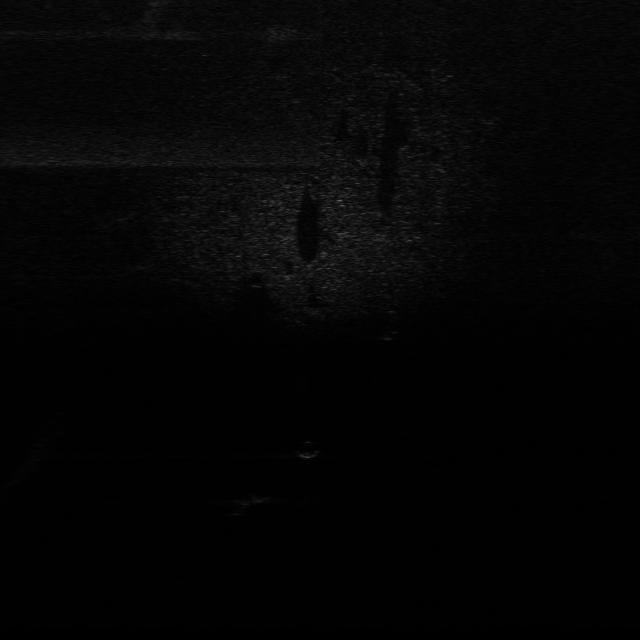ball: (286, 437, 324, 462)
square cage: (227, 486, 277, 513)
tyre: (377, 306, 403, 344)
